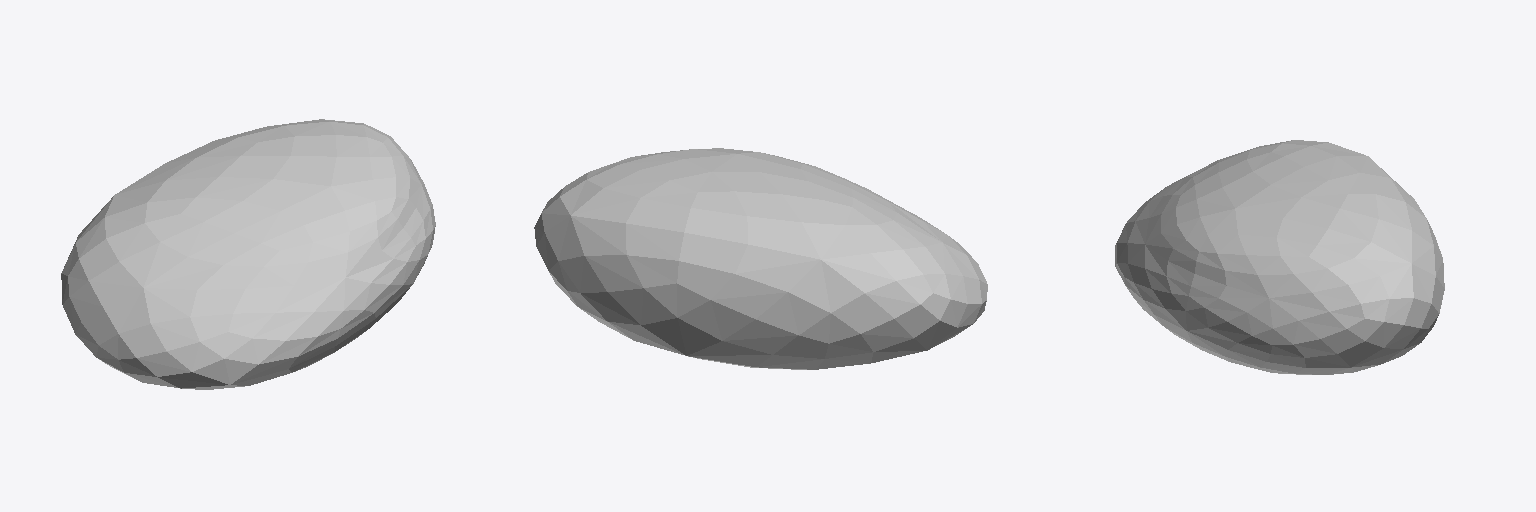
File: rock3.obj
3 views of the same model, side by side, from view 1: azimuth 30°, elevation 25°; view 2: azimuth 150°, elevation 25°; view 3: azimuth 270°, elevation 25° (orthographic).
Parts seen in each view (by area): view 1: Icosphere_001; view 2: Icosphere_001; view 3: Icosphere_001.
Boxes of the visible parts, <box> form: Icosphere_001: <box>61,119,435,389</box>; Icosphere_001: <box>534,148,987,369</box>; Icosphere_001: <box>1115,140,1444,374</box>.
Size of the model in its own units: 8.98 by 3.71 by 6.84.